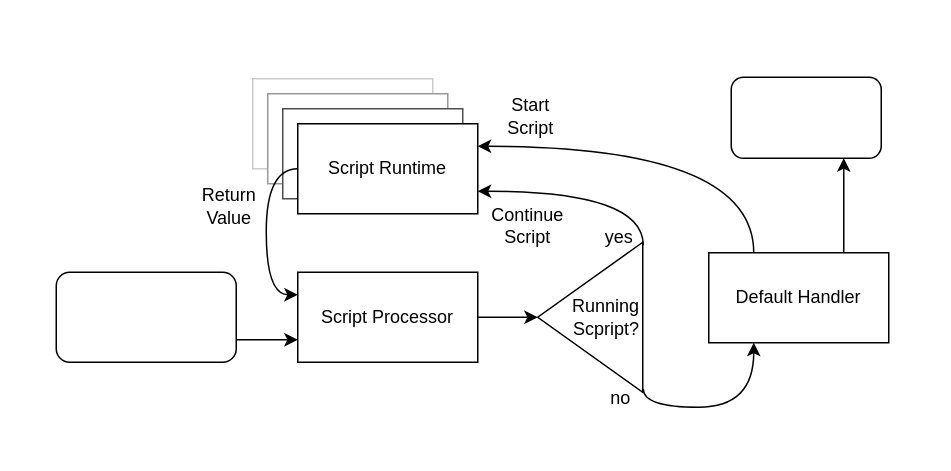
Some shapes in this 951 by 471 pixel diagram are drawn without their labels. Each missing label, with the centre of its shape:
"Events Received" goes at (145,316).
"Normal Reply" goes at (805,117).
